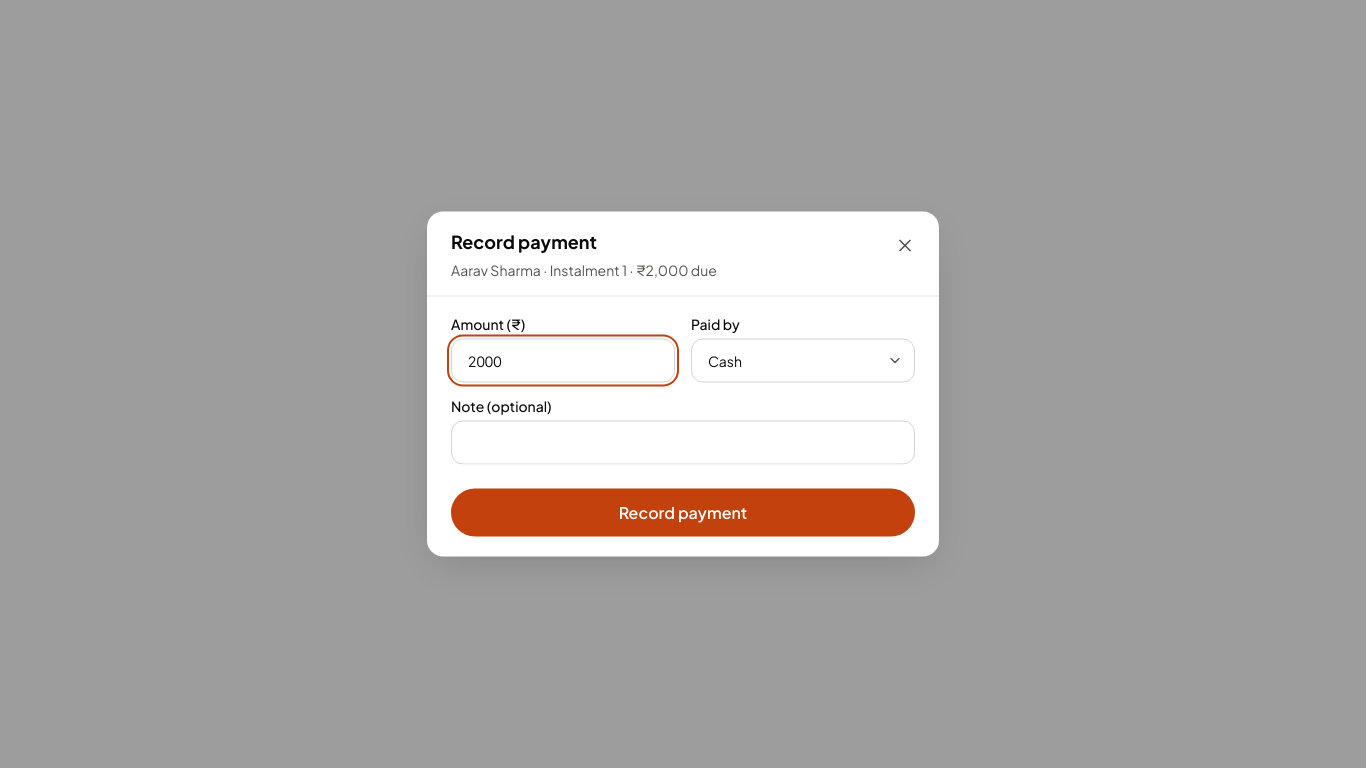
Test case: PaymentDialog › refuses more than the balance
Replace the text in the field labelled "Amount (₹)" with "2500". click: {"x": 563, "y": 360}
box: [451,338,675,382]
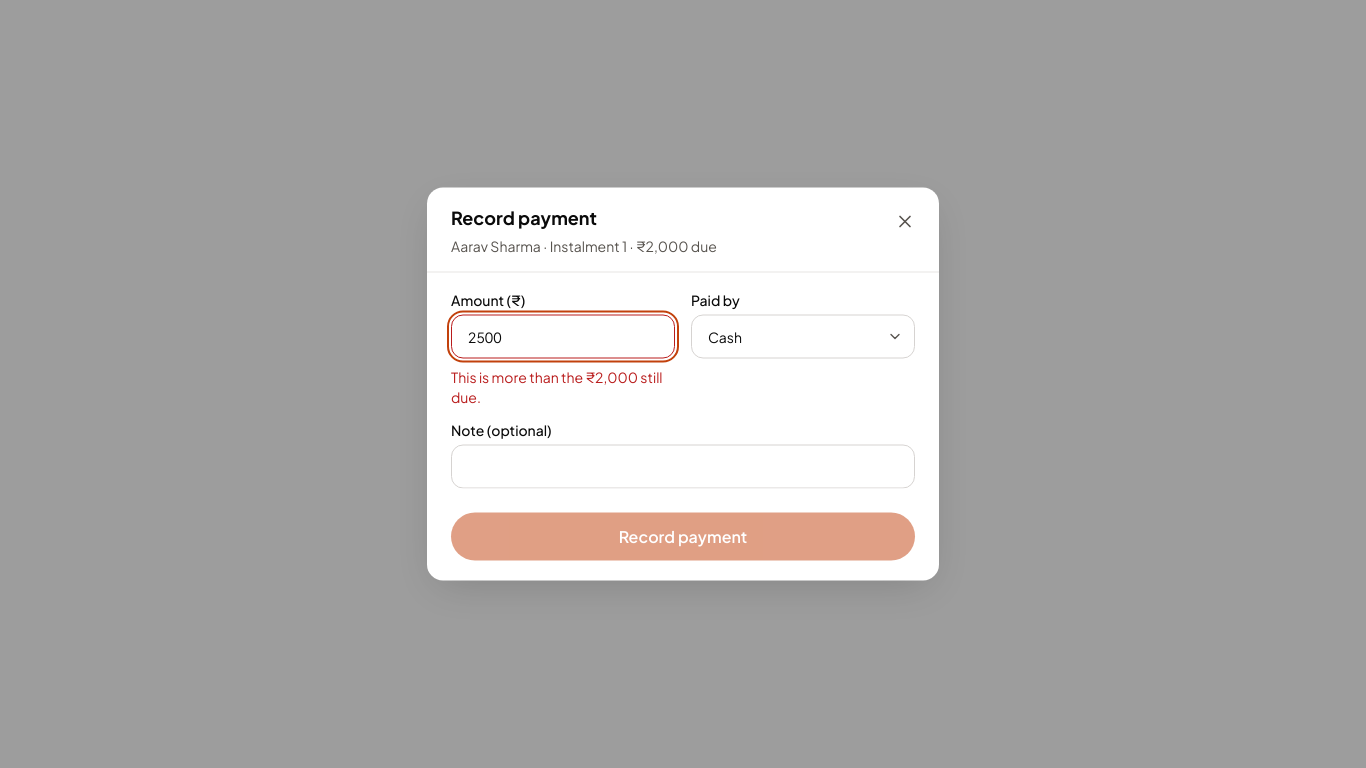
Now the button "Record payment" is disabled, box [451,512,915,560]
Now the text "This is more than the ₹2,000 still due." is shown, box [451,366,675,406]
